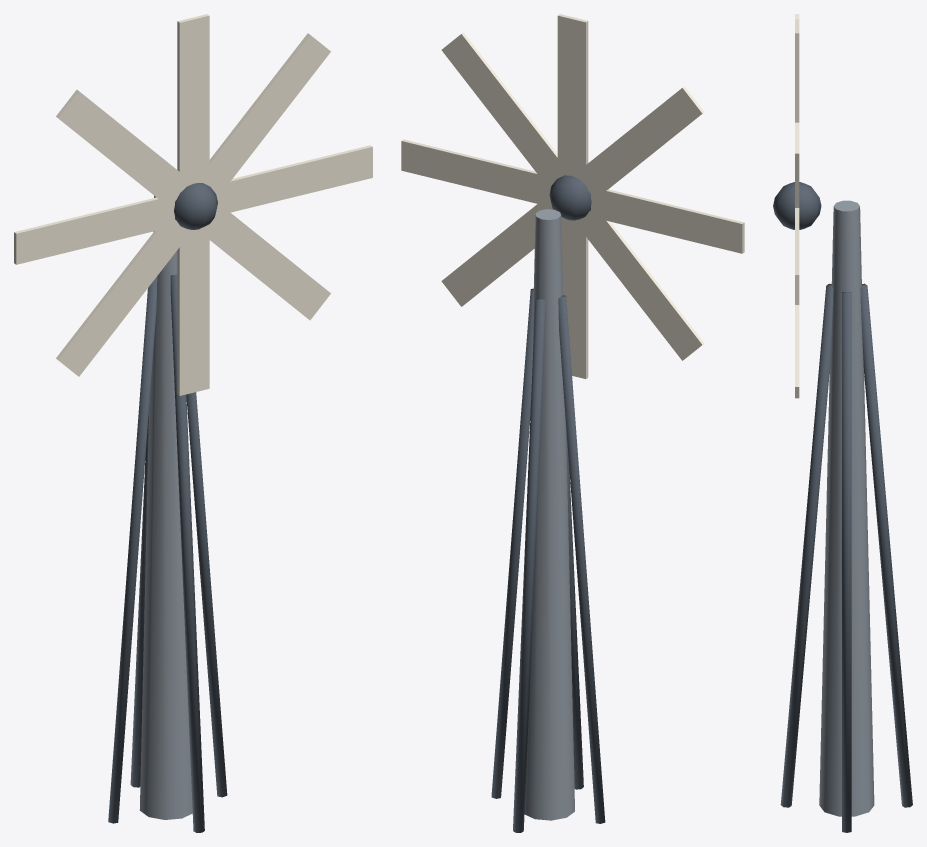
Rendered from windmill.glb.
The picture shows the model from 3 angles, left to right: view 1: azimuth 30°, elevation 25°; view 2: azimuth 150°, elevation 25°; view 3: azimuth 270°, elevation 25°; orthographic projection. The views are drawn at different scales.
Visible parts, largest first — view 1: BladesMesh, Tower; view 2: Tower, BladesMesh; view 3: Tower, BladesMesh.
Boxes of the visible parts, x1=… form: BladesMesh: x1=14, y1=14, x2=372, y2=395; Tower: x1=108, y1=195, x2=227, y2=832; Tower: x1=491, y1=209, x2=605, y2=832; BladesMesh: x1=401, y1=14, x2=744, y2=378; Tower: x1=780, y1=200, x2=912, y2=832; BladesMesh: x1=773, y1=14, x2=821, y2=398.
Bounding box in the file's own units: 3.6 × 7.8 × 1.27.
